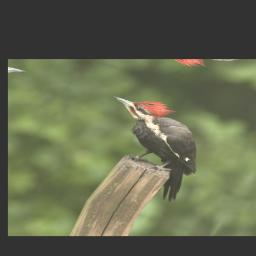Woodpecker: (61, 86, 241, 208)
